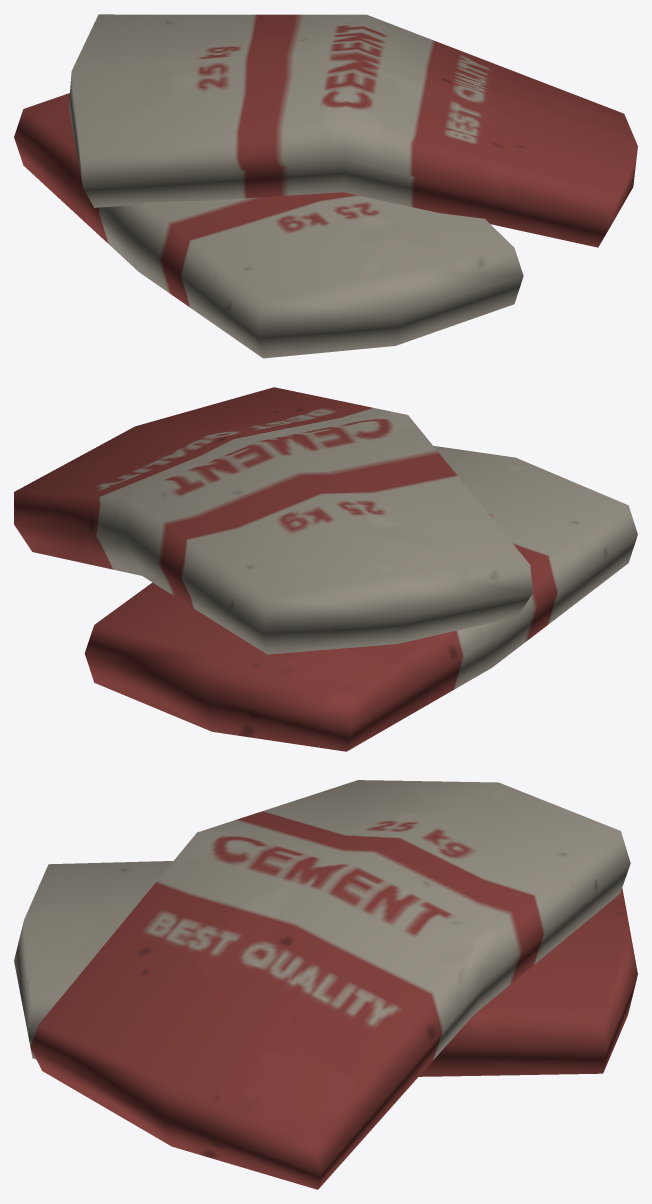
The model's file is Cement2_LOD1.fbx.
3 views of the same model, one above another, from view 1: azimuth 30°, elevation 25°; view 2: azimuth 150°, elevation 25°; view 3: azimuth 270°, elevation 25° (orthographic). The views are drawn at different scales.
Visible parts, largest first — view 1: polySurface1440; view 2: polySurface1440; view 3: polySurface1440.
Part boxes in pixels (x1,y1,x2,y2): polySurface1440: [14, 14, 637, 358]; polySurface1440: [14, 387, 637, 751]; polySurface1440: [14, 780, 637, 1189].
Bounding box in the file's own units: 116 × 37.87 × 108.
